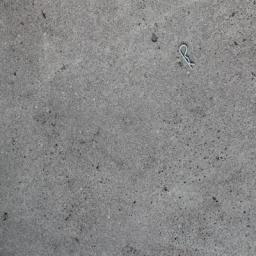FOD: (178, 43, 199, 72)
